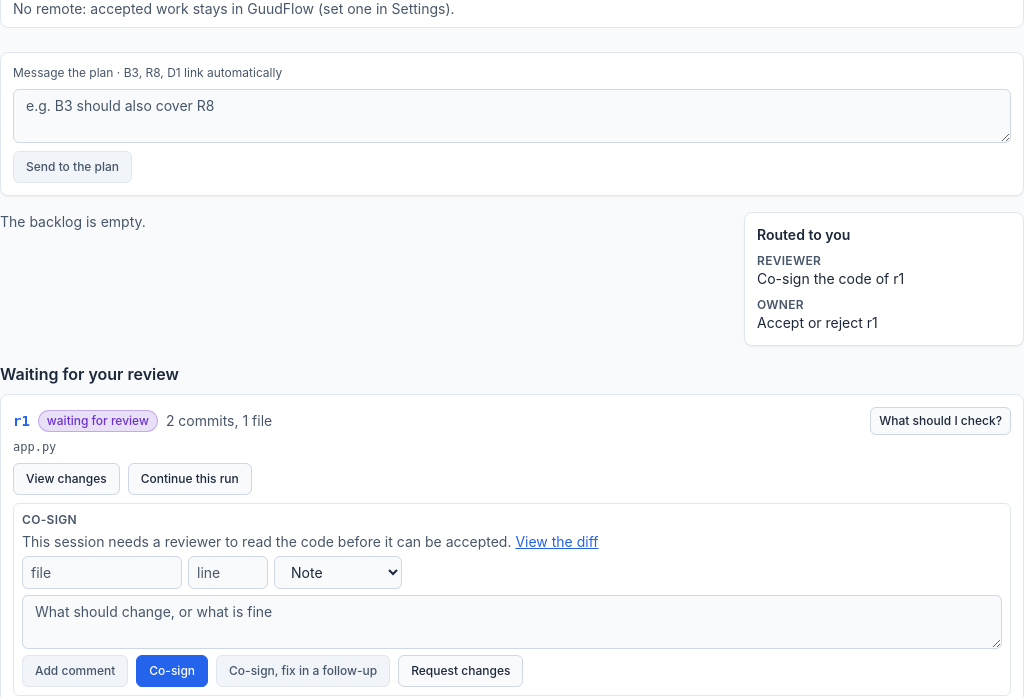
Test case: review and co-sign › sends the changes verdict for Request changes
Click the button "Request changes" at {"x": 461, "y": 671}, box [398, 655, 523, 687]
(page scrolled)
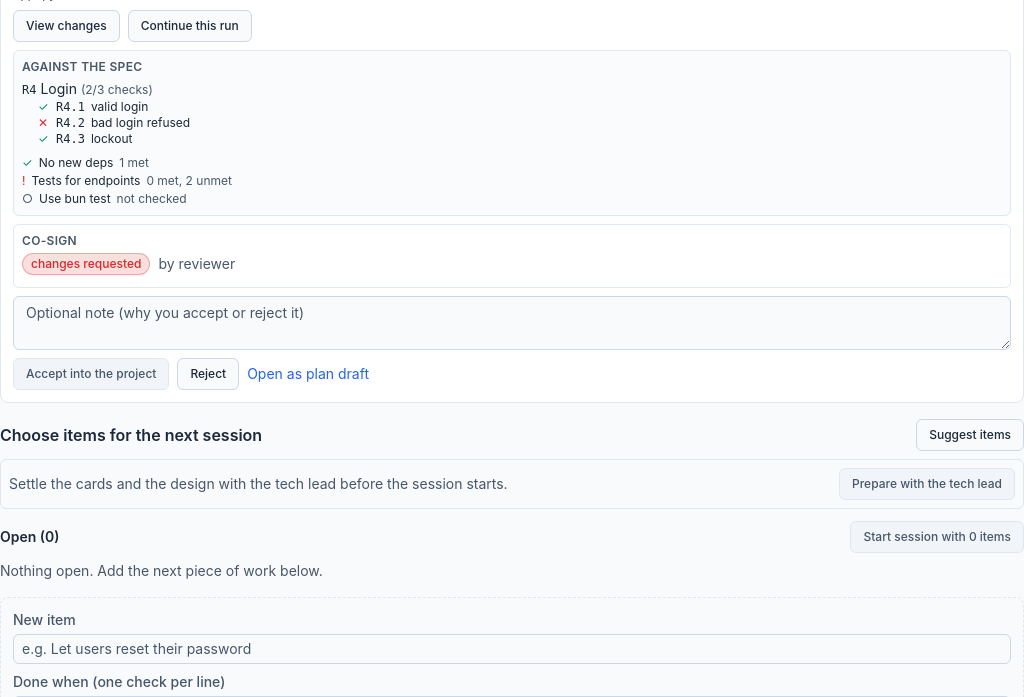
Expected: the button "Accept into the project" is disabled, [13, 358, 169, 390]
Result: the text "changes requested" is shown at [22, 253, 150, 275]
